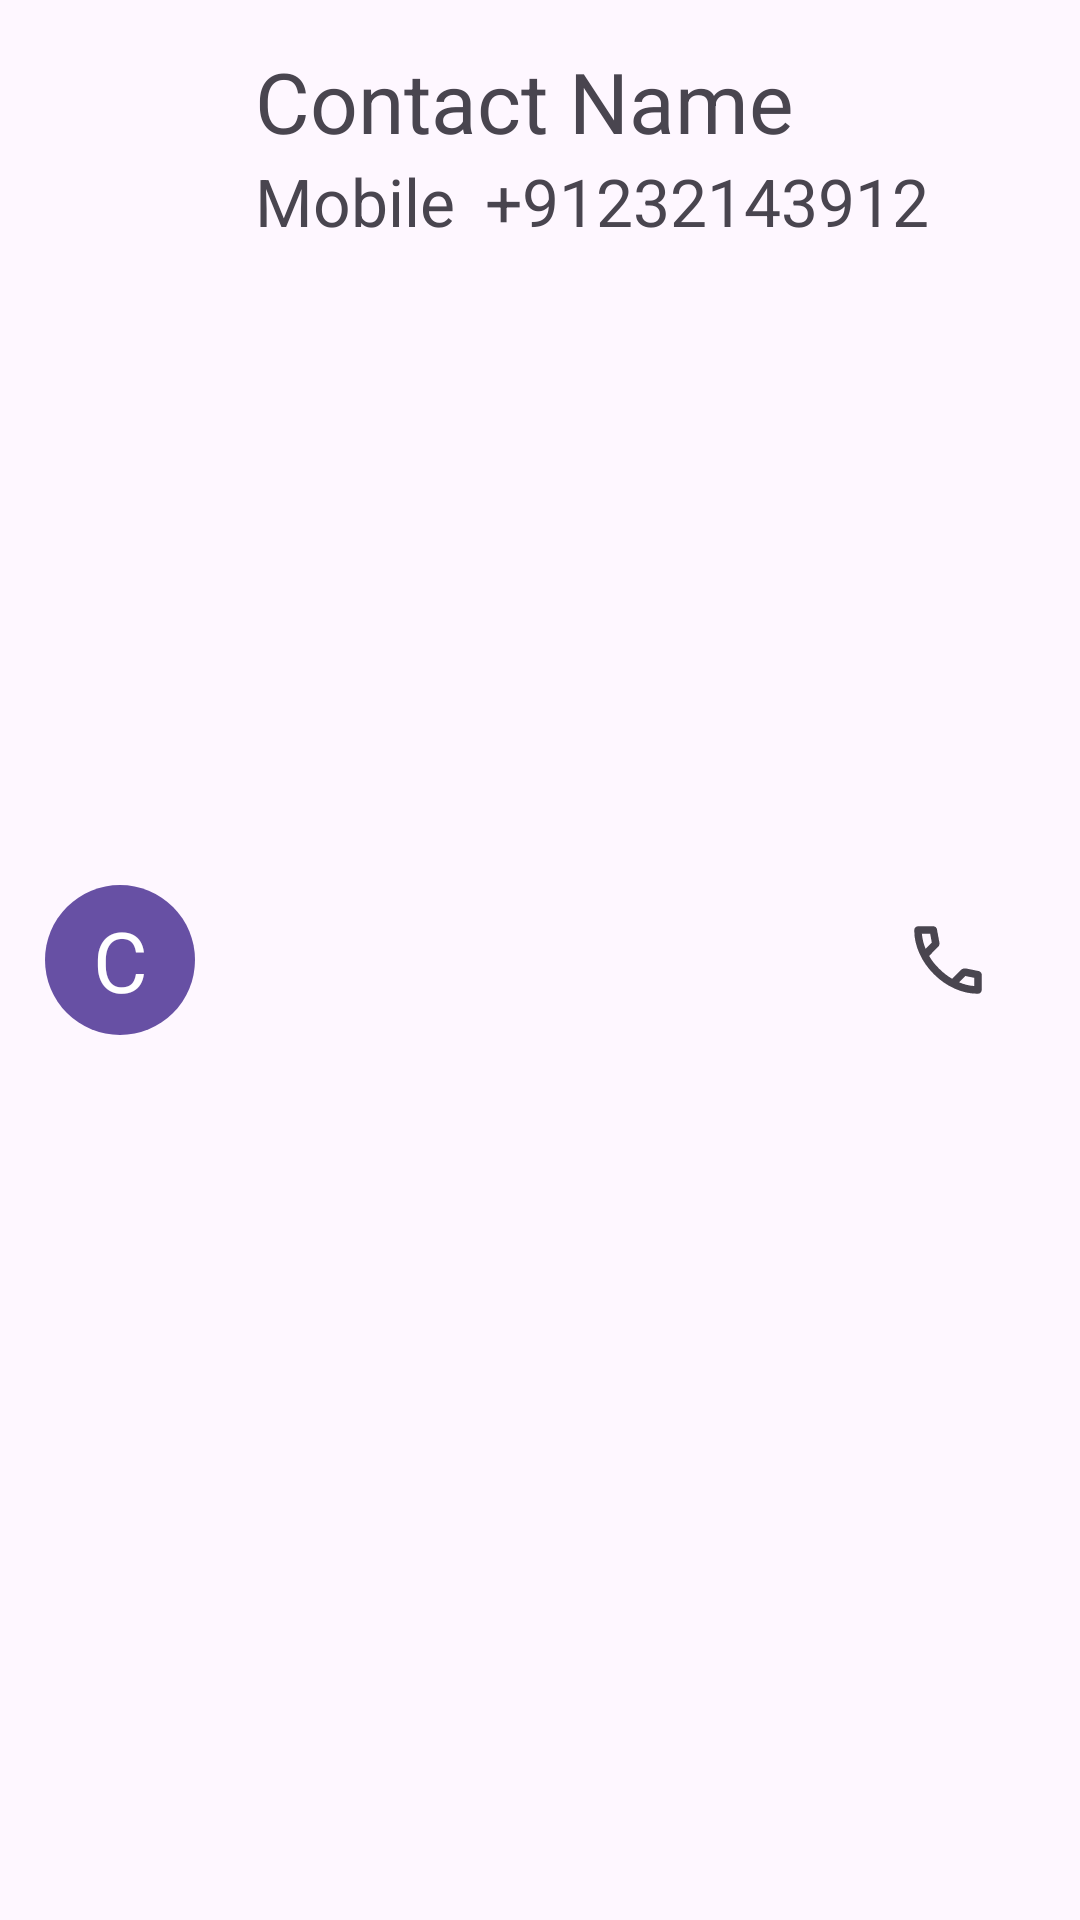

Point at icon controls on the screen. Image size 1080w x 1920h, points as (x=x, y=y).
Call the Contact: (x=948, y=960)
